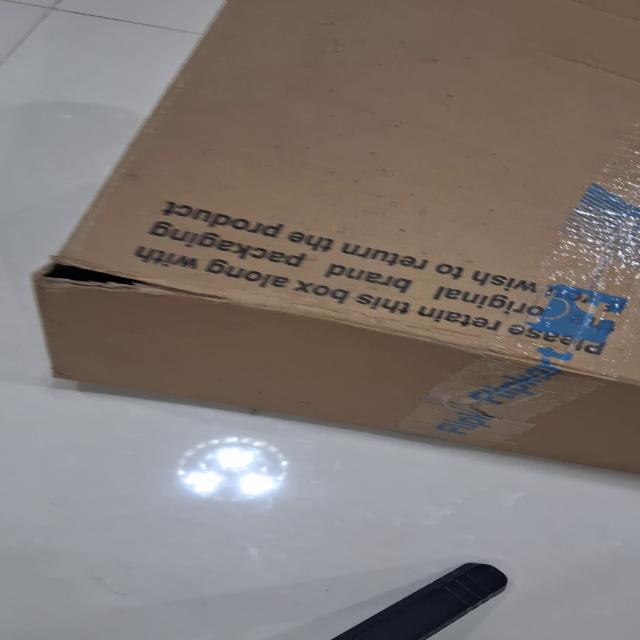paper: (28, 1, 639, 477)
